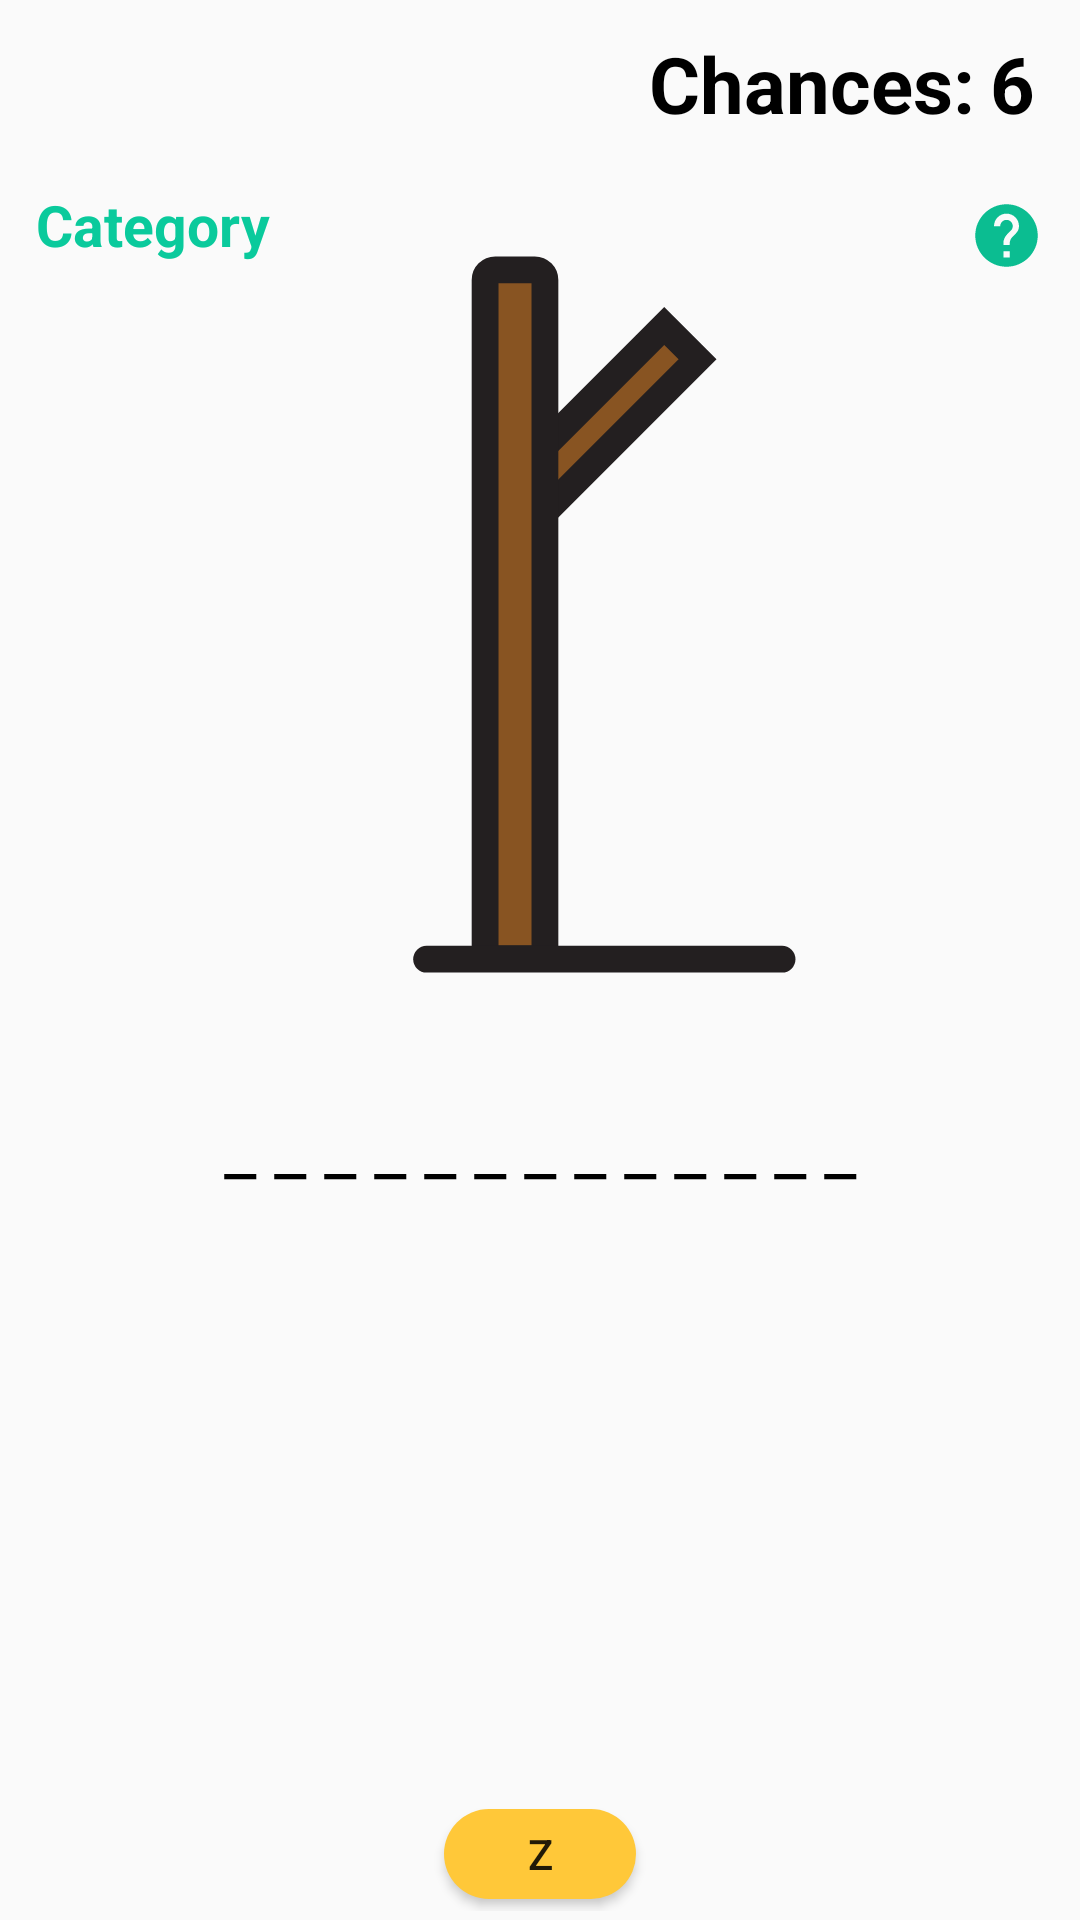

Named icons in this screenshot (1080px x 1920px) and their centers, [x,y]:
help: [1006,235]
